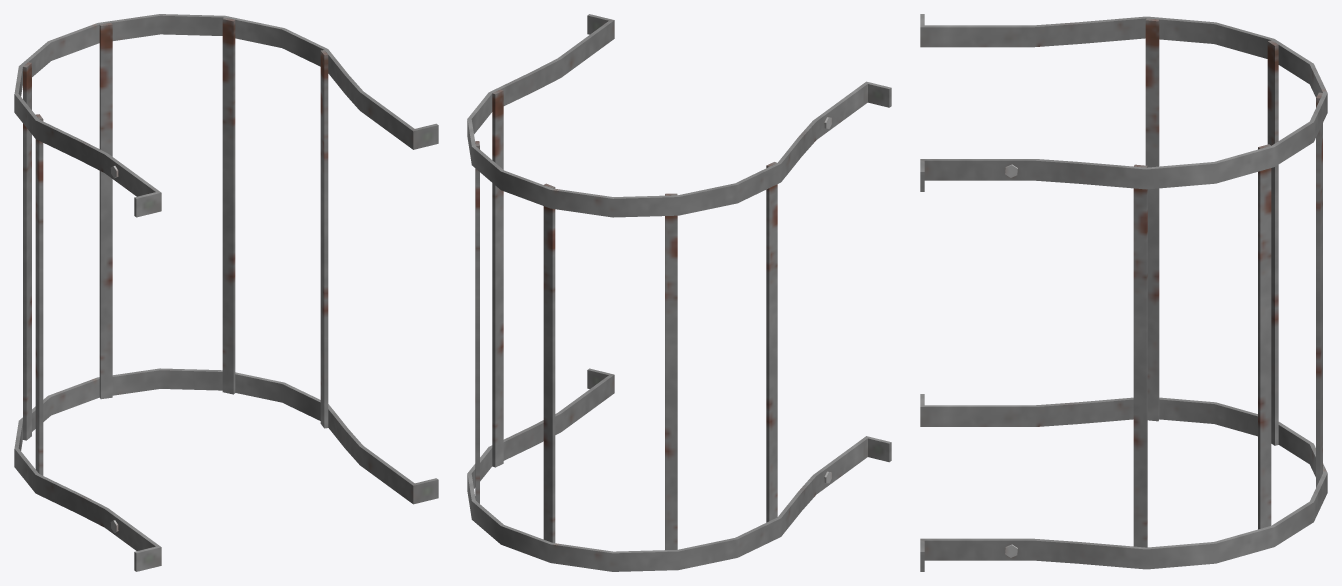
The model's file is CageLadderEnd.fbx.
3 views of the same model, side by side, from view 1: azimuth 30°, elevation 25°; view 2: azimuth 150°, elevation 25°; view 3: azimuth 270°, elevation 25° (orthographic). The views are drawn at different scales.
Visible parts, largest first — view 1: Cage_Ladder_End_LOD0; view 2: Cage_Ladder_End_LOD0; view 3: Cage_Ladder_End_LOD0.
Boxes of the visible parts, x1,y1,x2,y2 form: Cage_Ladder_End_LOD0: (14,14,438,571); Cage_Ladder_End_LOD0: (467,14,891,571); Cage_Ladder_End_LOD0: (920,14,1327,571).
Size of what is drawn, in the model's own units: 0.8472 by 1 by 0.9229.
